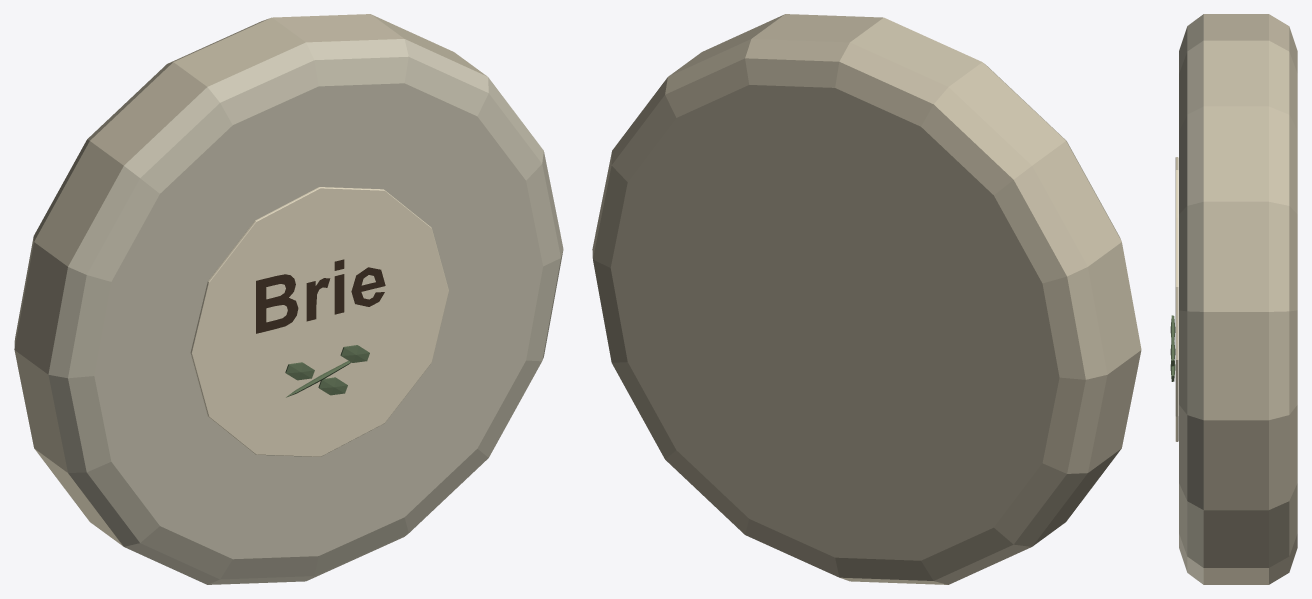
Rendered from brie.glb.
3 renders of one model, left to right at view 1: azimuth 30°, elevation 25°; view 2: azimuth 150°, elevation 25°; view 3: azimuth 270°, elevation 25°, orthographic. The views are drawn at different scales.
Visible parts, largest first — view 1: brie; view 2: brie; view 3: brie.
Boxes of the visible parts, x1,y1,x2,y2 form: brie: (14,14,563,584); brie: (592,14,1141,584); brie: (1170,14,1297,584).
Bounding box in the file's own units: 0.14 × 0.14 × 0.0311.
